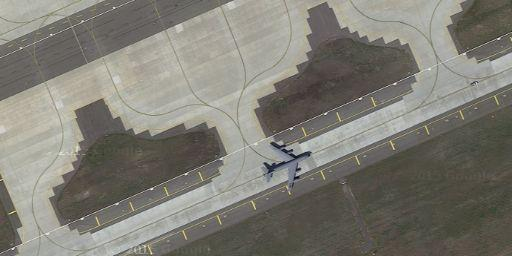KC-135: (259, 136, 313, 197)
